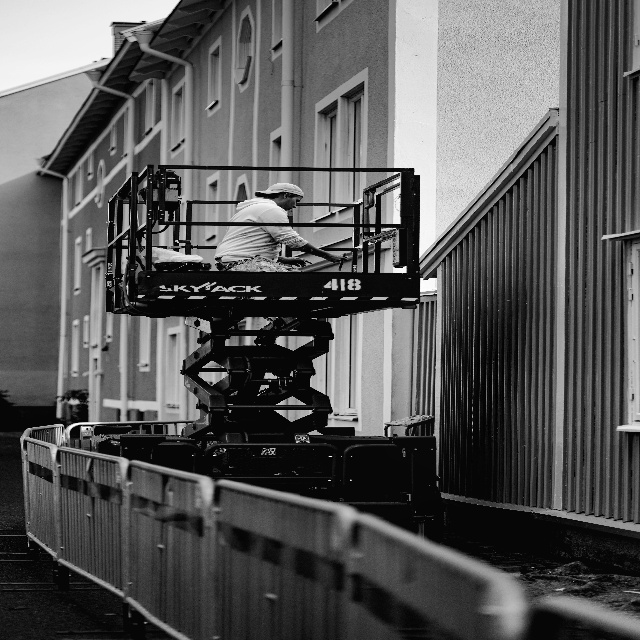Sin_guantes: (287, 256, 312, 268), (325, 253, 348, 263)
